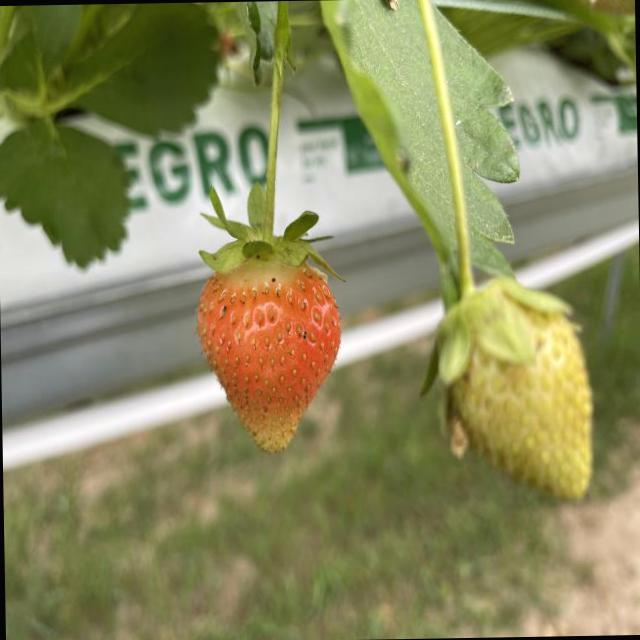stem: (418, 0, 567, 384), (200, 1, 337, 275)
strawberryNR: (451, 310, 591, 497)
strawberryR: (197, 260, 340, 451)
